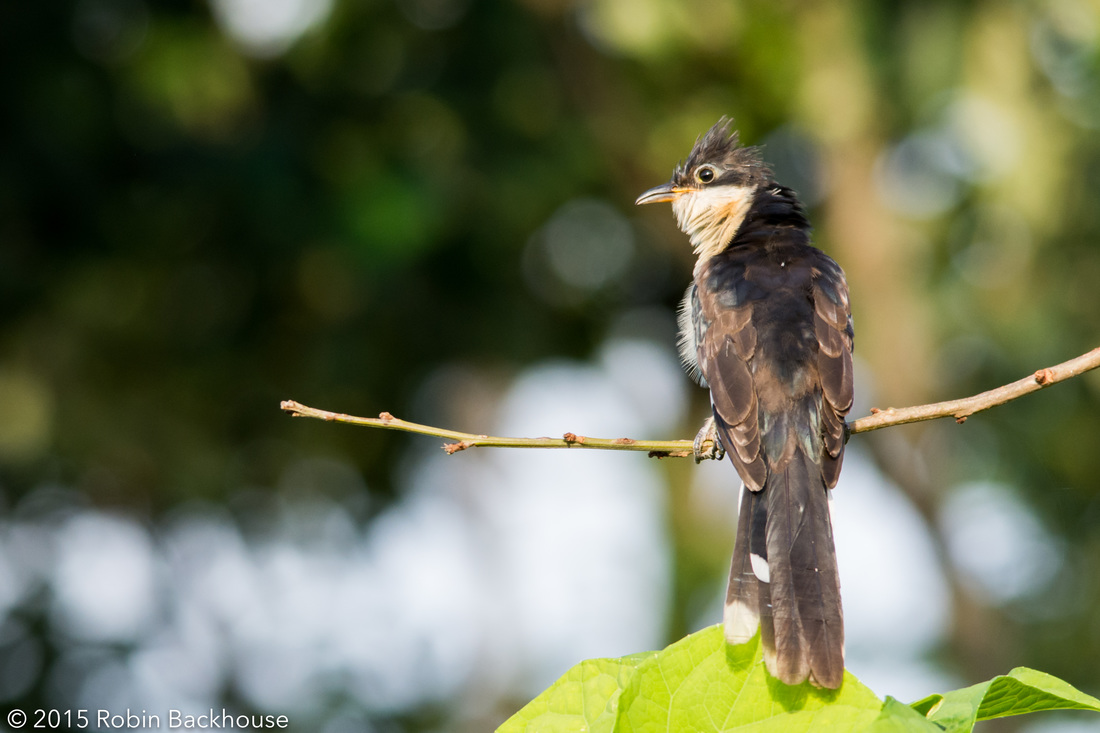bird: (623, 104, 880, 679)
